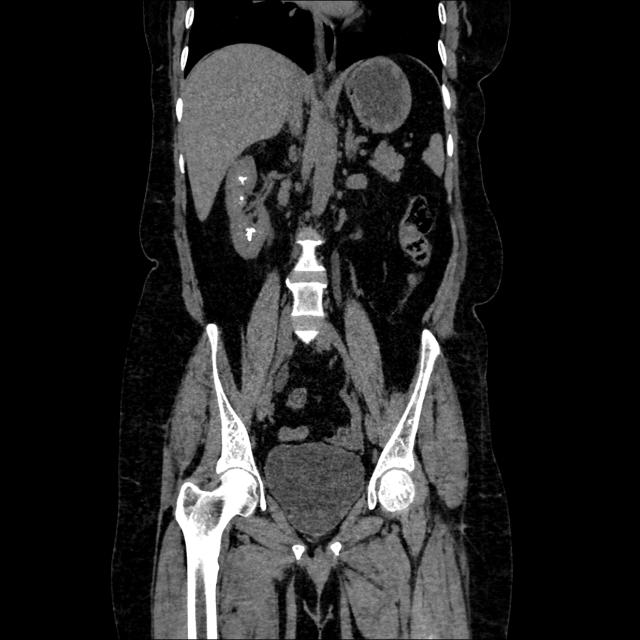kidney: (228, 160, 267, 251)
stone: (247, 228, 252, 240), (240, 176, 245, 184), (240, 196, 243, 200)
